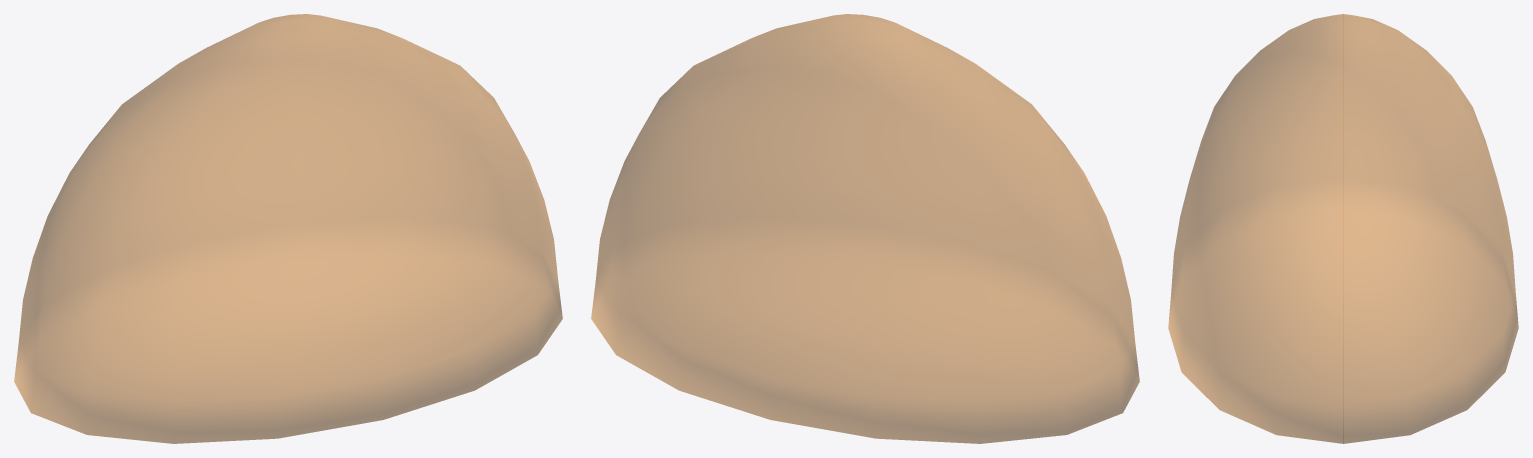
Rendered from scp-999.glb.
3 renders of one model, left to right at view 1: azimuth 30°, elevation 25°; view 2: azimuth 150°, elevation 25°; view 3: azimuth 270°, elevation 25°, orthographic. The views are drawn at different scales.
Parts seen in each view (by area): view 1: scp999_gel; view 2: scp999_gel; view 3: scp999_gel.
Part boxes in pixels (x1,y1,x2,y2): scp999_gel: [14, 14, 562, 443]; scp999_gel: [591, 14, 1139, 443]; scp999_gel: [1168, 14, 1518, 443].
Size of the model in its own units: 2.5 by 1.52 by 1.6.
